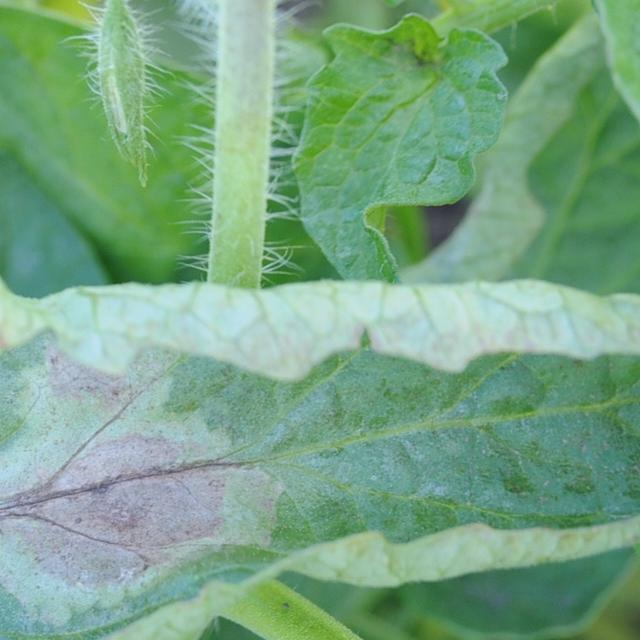Tomato leaf late blight: (0, 264, 640, 640)
